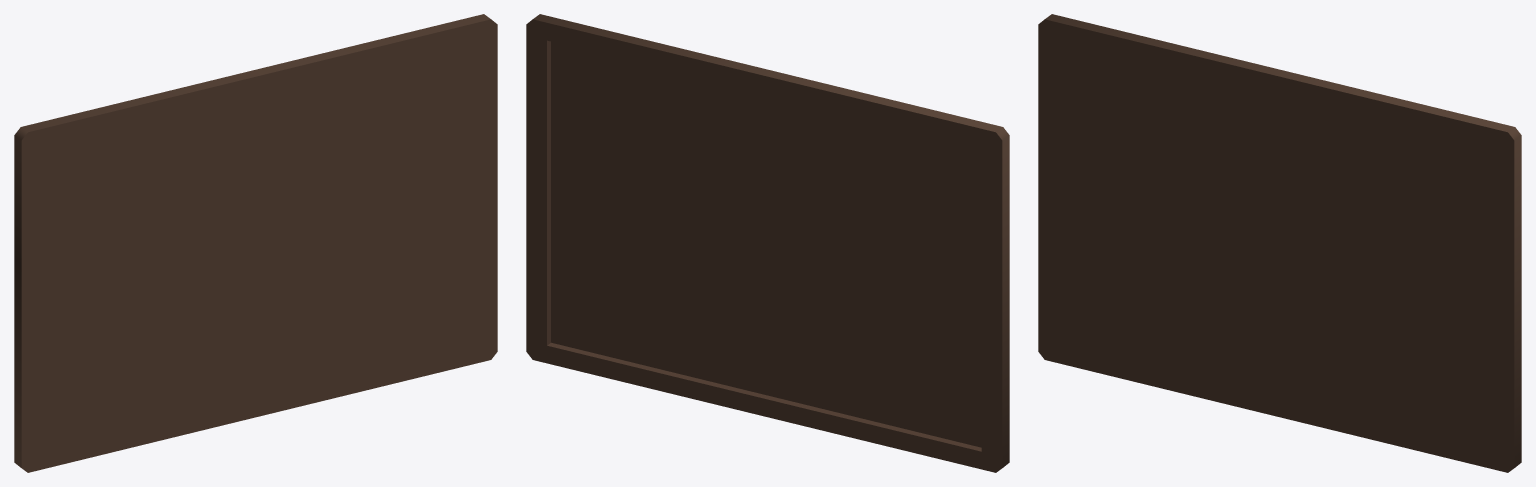
File: bilderrahmen.fbx
The picture shows the model from 3 angles, left to right: view 1: azimuth 30°, elevation 25°; view 2: azimuth 150°, elevation 25°; view 3: azimuth 330°, elevation 25°; orthographic projection.
Parts seen in each view (by area): view 1: Cube; view 2: Cube; view 3: Cube.
Part boxes in pixels (left/top/right/bottom): Cube: left=14, top=14, right=497, bottom=472; Cube: left=526, top=14, right=1009, bottom=472; Cube: left=1038, top=14, right=1521, bottom=472.
Bounding box in the file's own units: 0.38 × 0.26 × 0.01.
